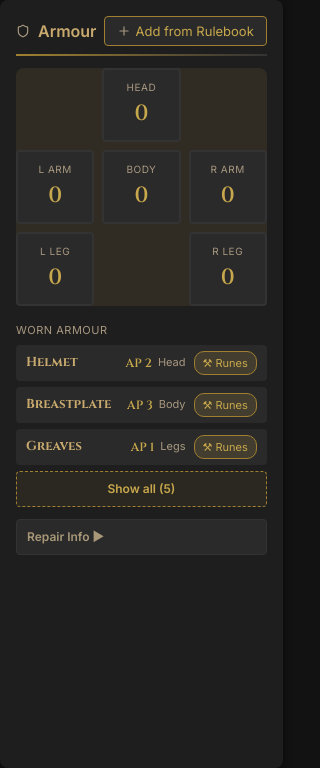
it: ArmourMap — compact list with overflow toggle › collapses back to 3 items when "Show less" is clicked
Click the button with test id "armour-show-all-toggle": point(141, 488) [16,470,267,506]
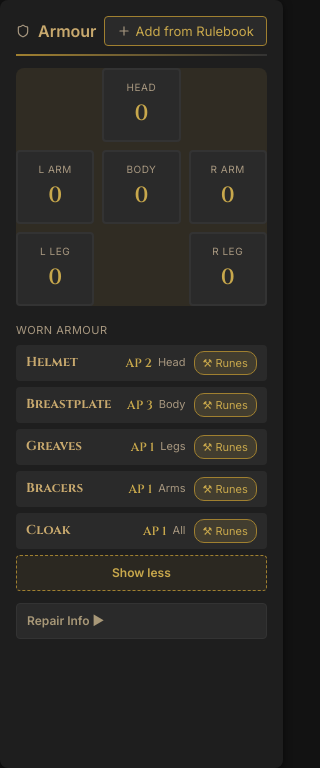
Click the button with test id "armour-show-all-toggle": point(141, 572) [16,554,267,590]
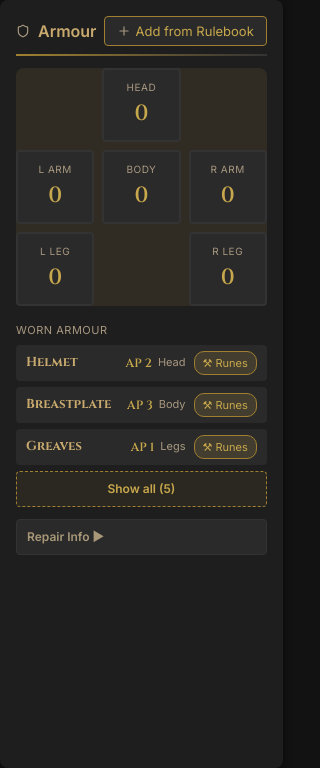
Now the element with test id "armour-item-3" is gone
Now the element with test id "armour-item-4" is gone
Now the button with test id "armour-show-all-toggle" reads "Show all (5)", box [16,470,267,506]
